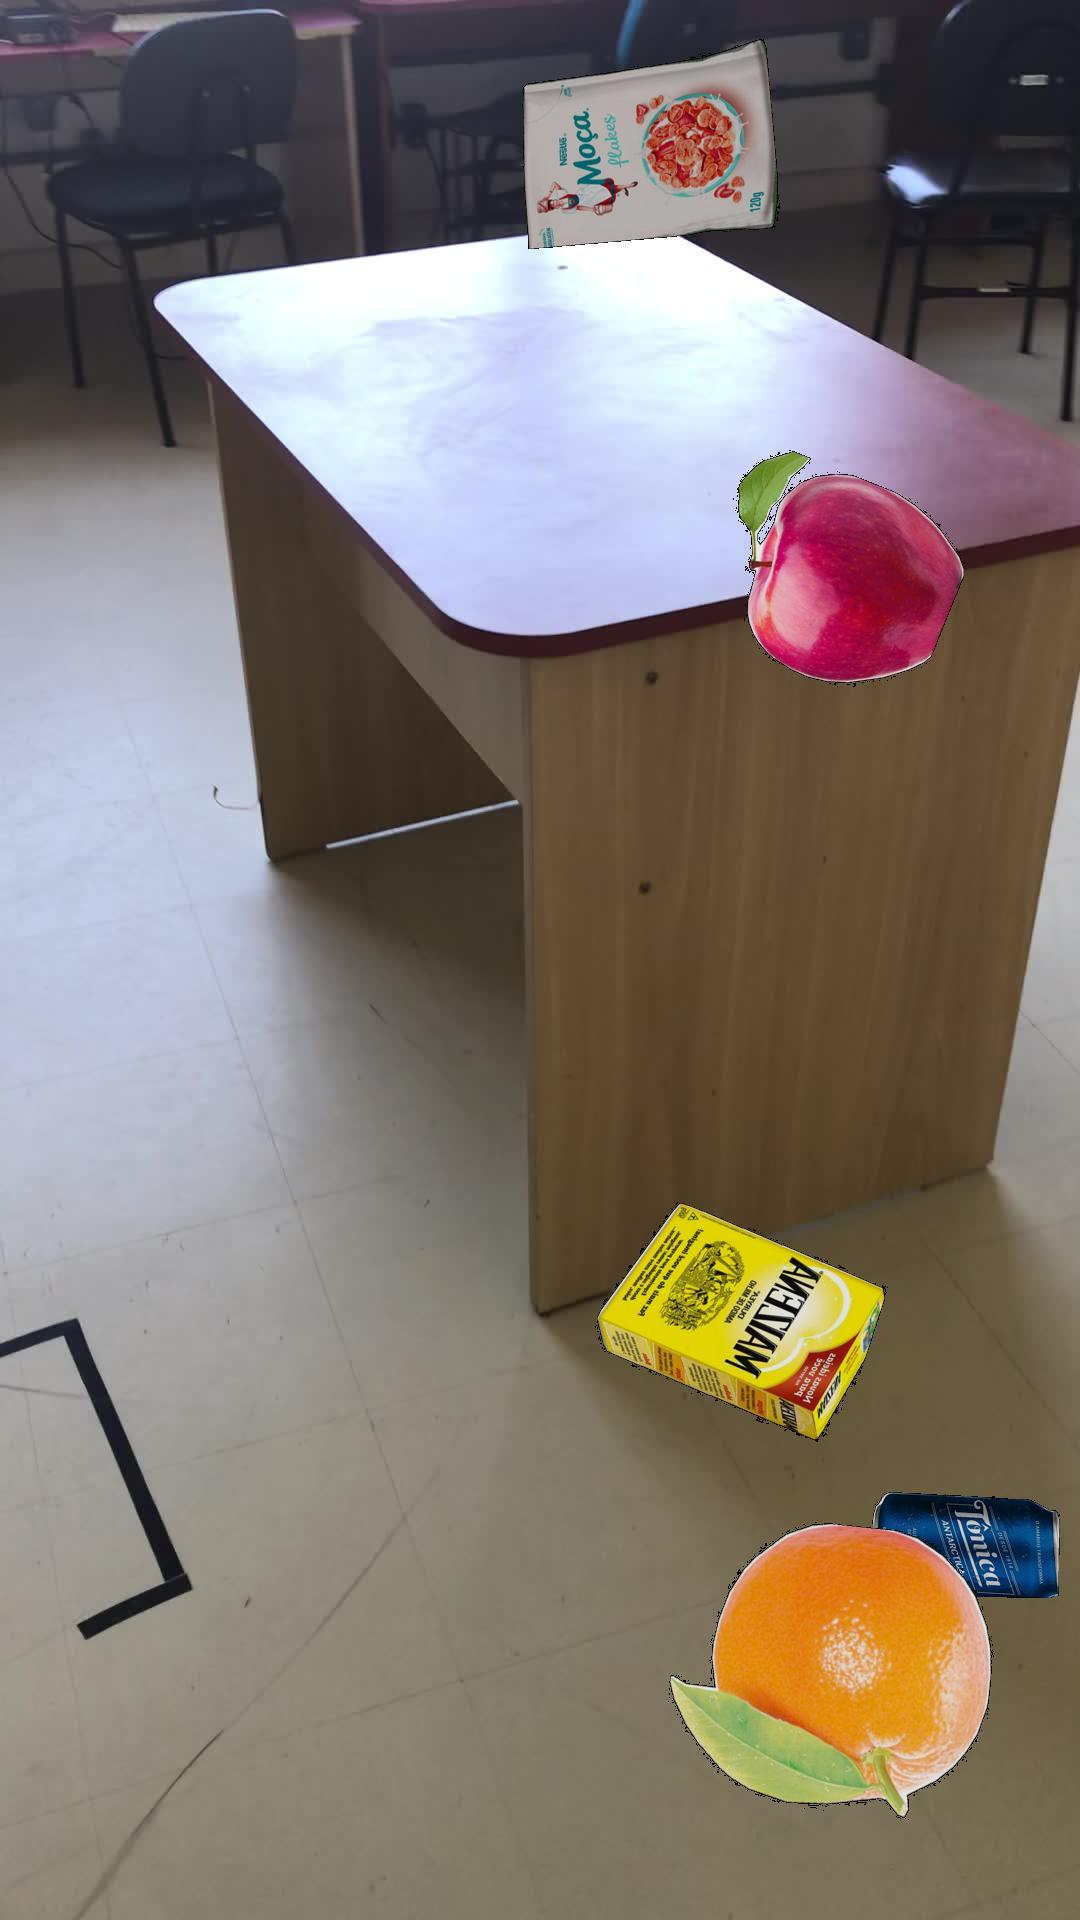apple: (736, 450, 961, 683)
corn flakes: (521, 38, 778, 248)
orange: (667, 1522, 992, 1817)
tonic: (870, 1490, 1059, 1597)
